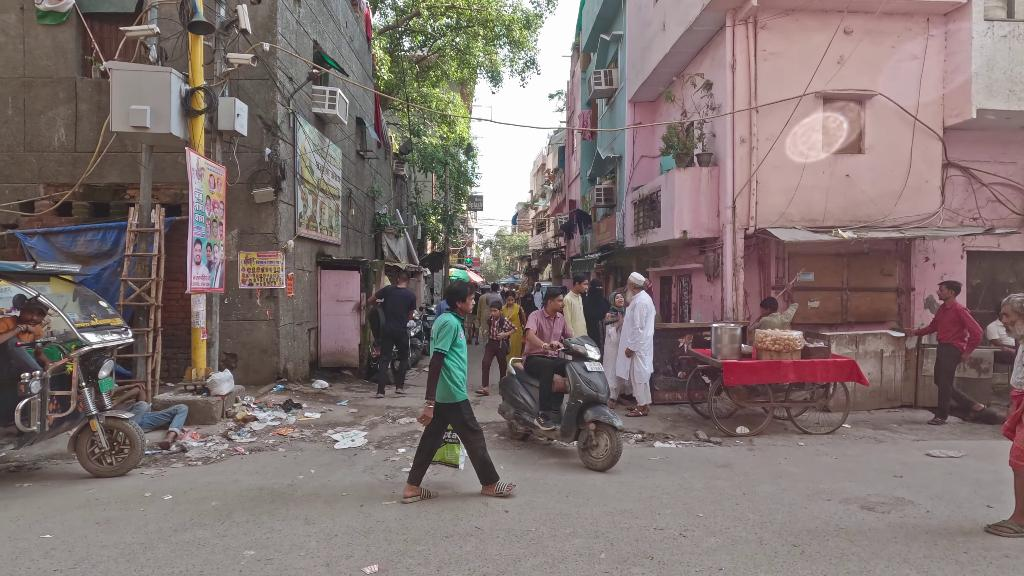garbage: (228, 395, 299, 439), (325, 427, 369, 453), (305, 377, 332, 393)
